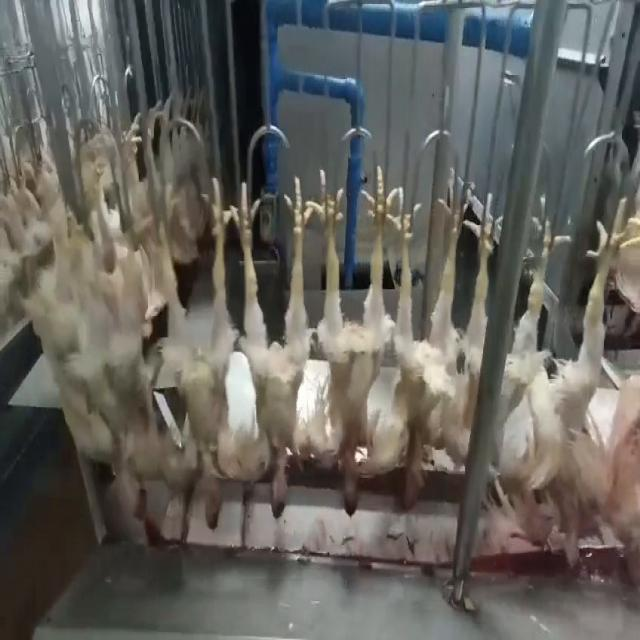chicken: (300, 160, 396, 527), (496, 207, 583, 554), (390, 184, 480, 514), (234, 161, 308, 523), (103, 189, 178, 544), (171, 173, 240, 528), (591, 196, 639, 580), (437, 202, 503, 478)
